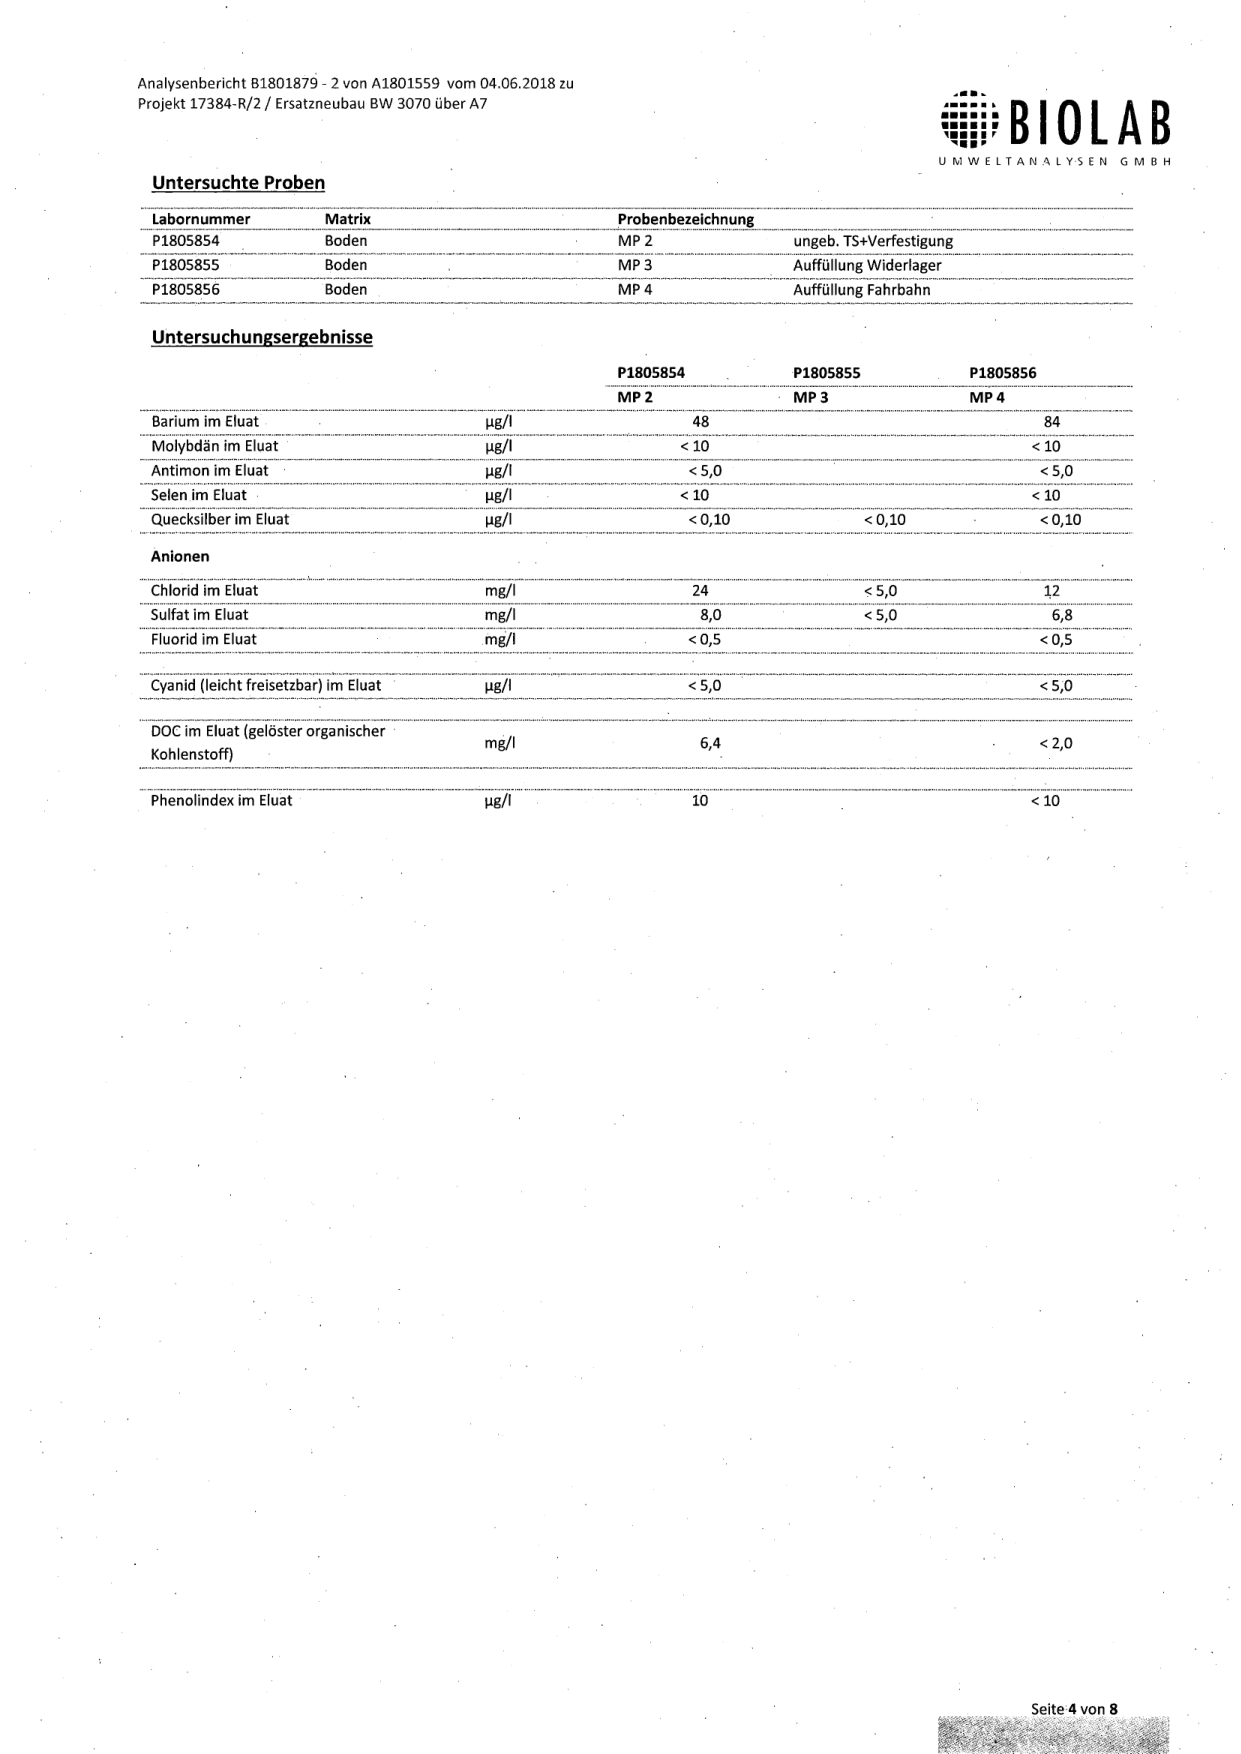table: (132, 569, 1160, 829), (132, 406, 1168, 543), (136, 197, 1146, 314)
